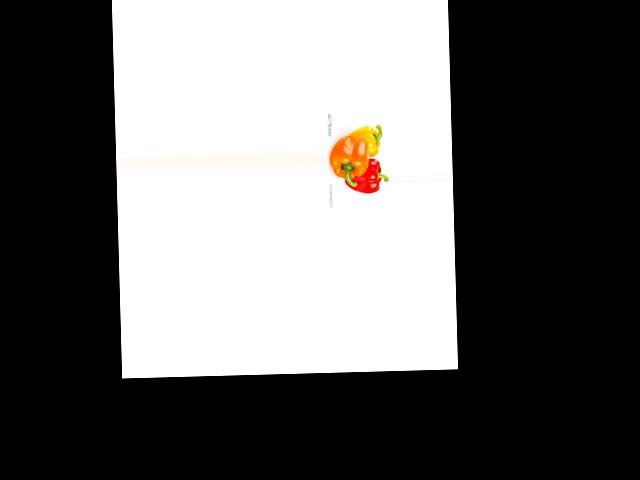bell_pepper: (347, 123, 384, 159)
